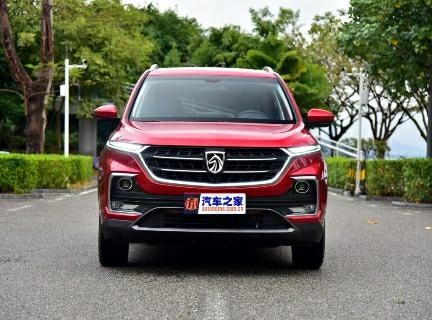car: (84, 52, 347, 280)
